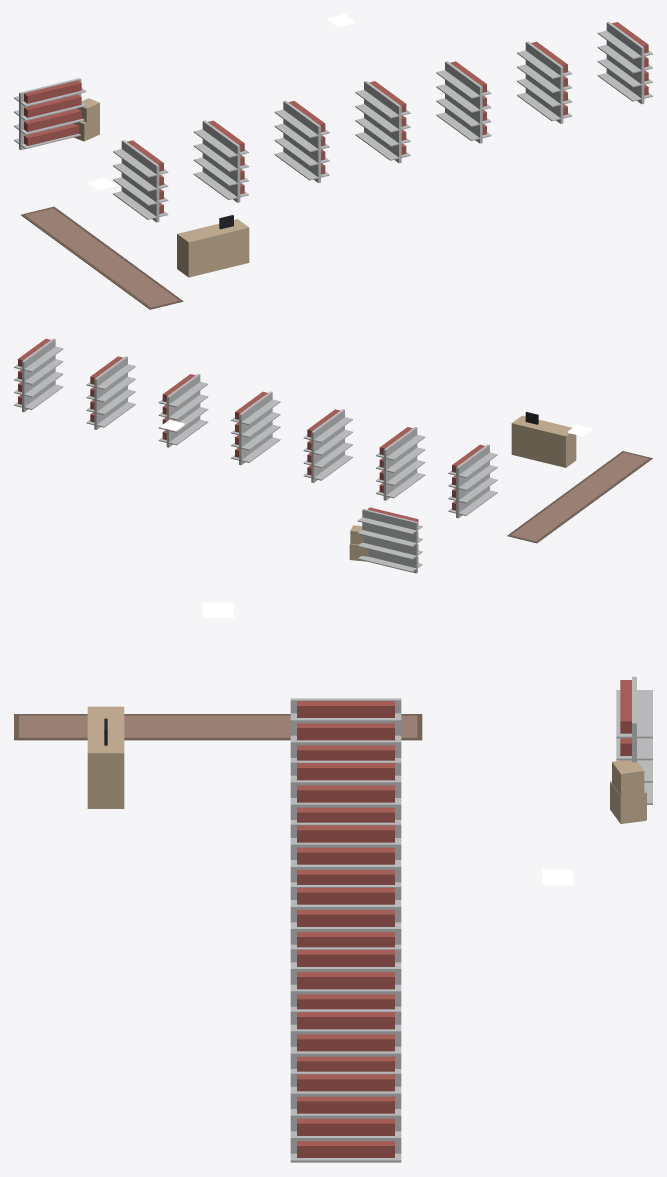
The model's file is fine-s0.glb.
The picture shows the model from 3 angles, top to bottom: view 1: azimuth 30°, elevation 25°; view 2: azimuth 150°, elevation 25°; view 3: azimuth 270°, elevation 25°; orthographic projection. The views are drawn at different scales.
Parts seen in each view (by area): view 1: soft-s0, shelving.000, shop-counter.000, shelf.001, shelf.000, shelf.003, shelf.006, shelf.005, shelf.002, shelf.004, cardboard-box.000; view 2: soft-s0, shelving.000, shop-counter.000, shelf.001, shelf.002, shelf.006, shelf.000, shelf.003, shelf.005, shelf.004, cardboard-box.000; view 3: shelf.006, soft-s0, shelf.000, shelf.005, shelf.001, shelf.002, shelf.003, shelf.004, shop-counter.000, shelving.000, cardboard-box.000.
Part boxes in pixels (bbox=[...]): soft-s0: bbox=[21, 206, 183, 309]; shelving.000: bbox=[14, 78, 86, 150]; shop-counter.000: bbox=[177, 215, 249, 277]; shelf.001: bbox=[193, 120, 248, 202]; shelf.000: bbox=[113, 140, 168, 222]; shelf.003: bbox=[355, 81, 410, 163]; shelf.006: bbox=[597, 22, 652, 104]; shelf.005: bbox=[517, 41, 572, 123]; shelf.002: bbox=[274, 100, 329, 182]; shelf.004: bbox=[436, 61, 491, 143]; cardboard-box.000: bbox=[73, 98, 99, 141]; soft-s0: bbox=[507, 451, 652, 543]; shelving.000: bbox=[357, 507, 422, 573]; shop-counter.000: bbox=[511, 412, 576, 467]; shelf.001: bbox=[376, 427, 425, 500]; shelf.002: bbox=[303, 409, 352, 482]; shelf.006: bbox=[14, 338, 63, 412]; shelf.000: bbox=[448, 444, 497, 518]; shelf.003: bbox=[231, 391, 280, 465]; shelf.005: bbox=[86, 356, 135, 429]; shelf.004: bbox=[158, 374, 208, 447]; cardboard-box.000: bbox=[349, 525, 368, 561]; shelf.006: bbox=[290, 1071, 401, 1162]; soft-s0: bbox=[14, 714, 422, 740]; shelf.000: bbox=[290, 698, 401, 760]; shelf.005: bbox=[290, 1009, 401, 1071]; shelf.001: bbox=[290, 760, 401, 822]; shelf.002: bbox=[290, 822, 401, 884]; shelf.003: bbox=[290, 885, 401, 947]; shelf.004: bbox=[290, 947, 401, 1009]; shop-counter.000: bbox=[87, 706, 124, 808]; shelving.000: bbox=[616, 676, 652, 804]; cardboard-box.000: bbox=[610, 760, 646, 823].
Bounding box in the file's own units: 17.54 × 2.14 × 10.42.
